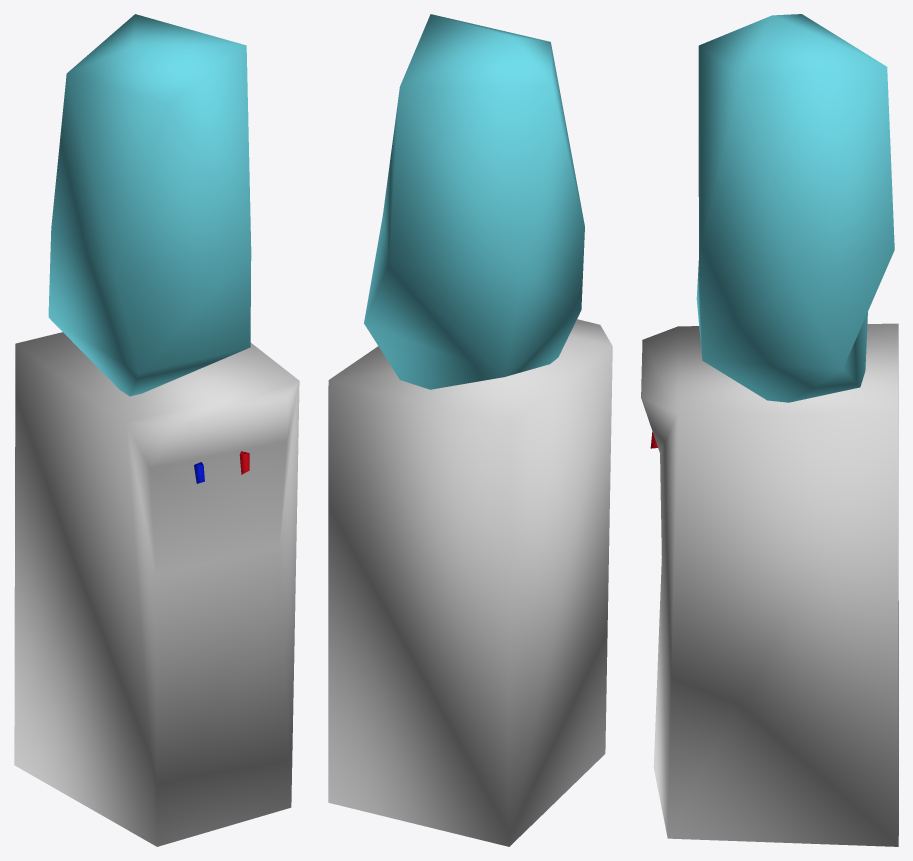
File: WaterCooler2.fbx
3 renders of one model, left to right at view 1: azimuth 30°, elevation 25°; view 2: azimuth 150°, elevation 25°; view 3: azimuth 270°, elevation 25°, orthographic. The views are drawn at different scales.
Visible parts, largest first — view 1: Cube.085, Cylinder.036; view 2: Cube.085, Cylinder.036; view 3: Cube.085, Cylinder.036.
Boxes of the visible parts, x1,y1,x2,y2 form: Cube.085: (14,332,299,846); Cylinder.036: (48,14,251,396); Cube.085: (328,319,612,846); Cylinder.036: (364,14,584,389); Cube.085: (641,323,898,846); Cylinder.036: (696,14,894,402).
Bounding box in the file's own units: 60.58 × 240 × 72.71.
